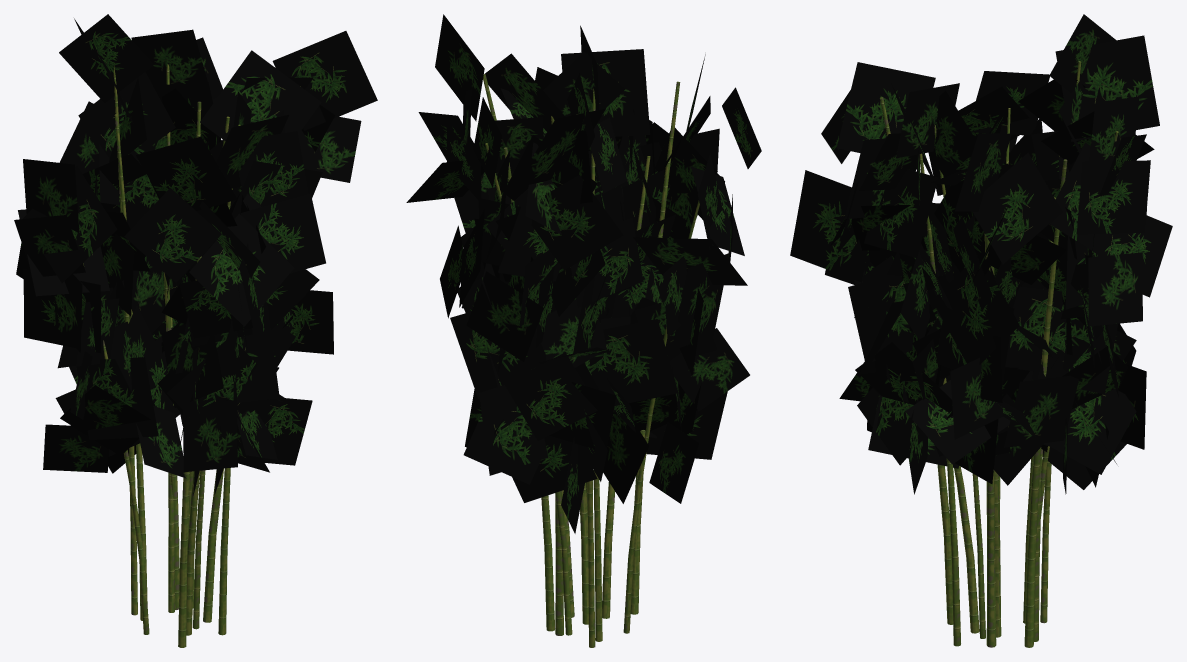
Rendered from Bamboo_1.fbx.
3 views of the same model, side by side, from view 1: azimuth 30°, elevation 25°; view 2: azimuth 150°, elevation 25°; view 3: azimuth 270°, elevation 25° (orthographic). The views are drawn at different scales.
Parts seen in each view (by area): view 1: Bamboo_1_LOD0; view 2: Bamboo_1_LOD0; view 3: Bamboo_1_LOD0.
Part boxes in pixels (box(x1,y1,x2,y2)): Bamboo_1_LOD0: box(14, 14, 377, 647); Bamboo_1_LOD0: box(406, 14, 761, 647); Bamboo_1_LOD0: box(790, 14, 1172, 647).
Size of what is drawn, in the model's own units: 6.75 by 11.48 by 6.59.
